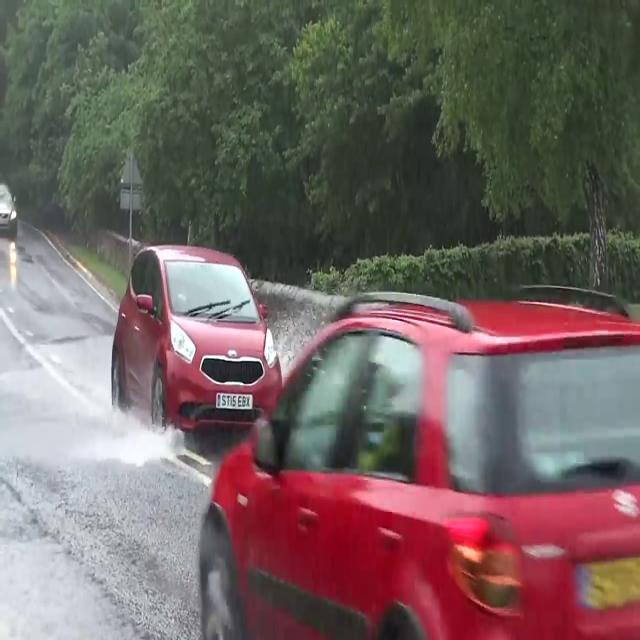license-plate-annotation: (212, 384, 255, 410)
